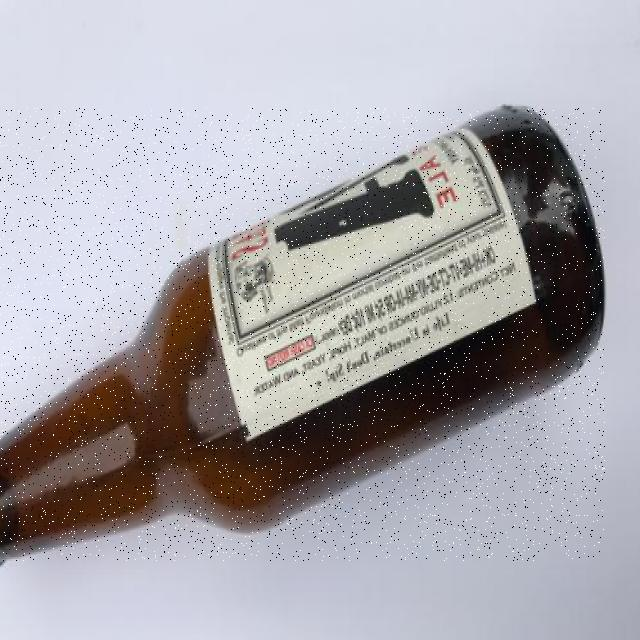glass: (0, 108, 605, 561)
